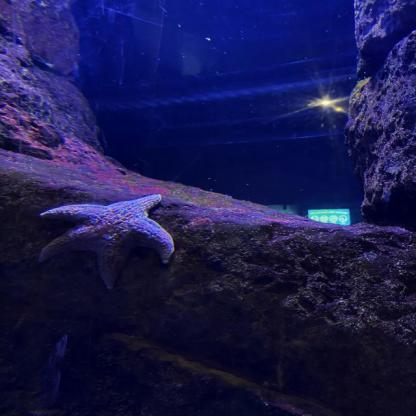starfish: (39, 196, 174, 290)
